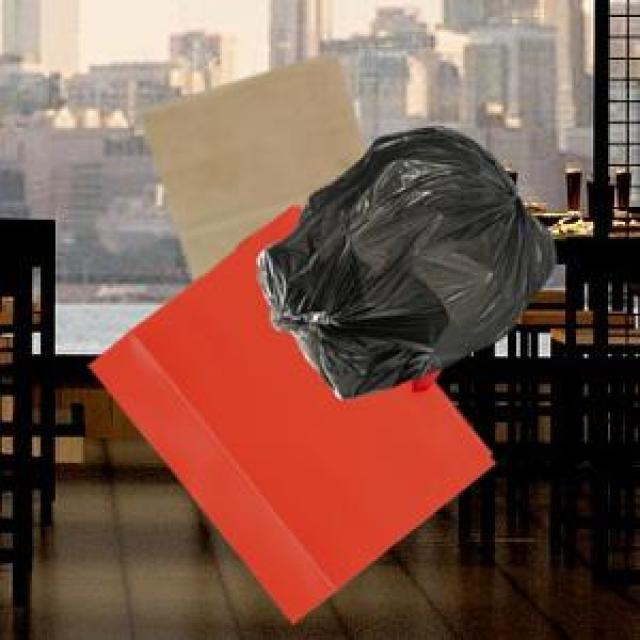miscellaneous trash: (254, 124, 553, 395)
paper: (85, 203, 491, 619), (137, 49, 363, 277)
